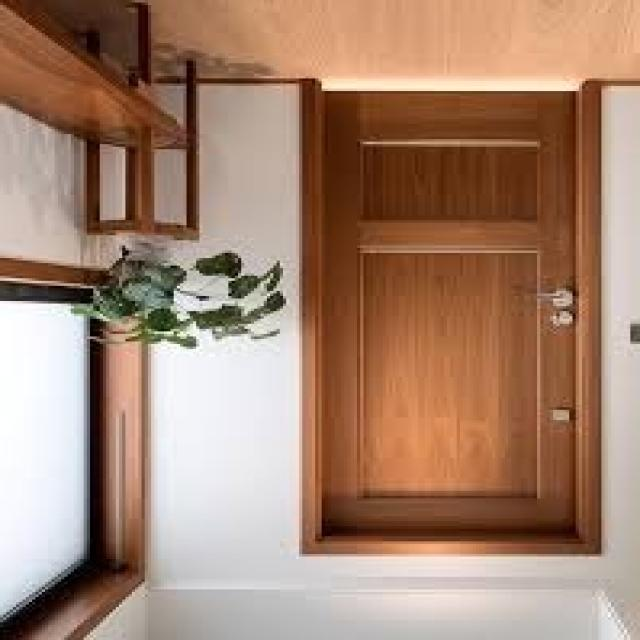door: (315, 90, 582, 545)
